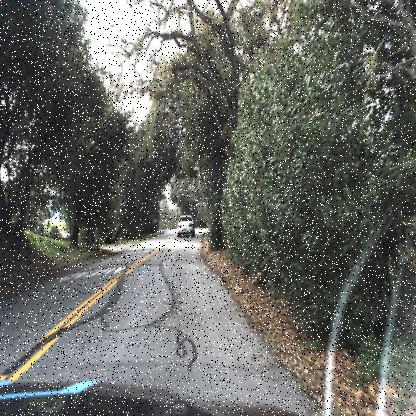car: (170, 211, 196, 243)
